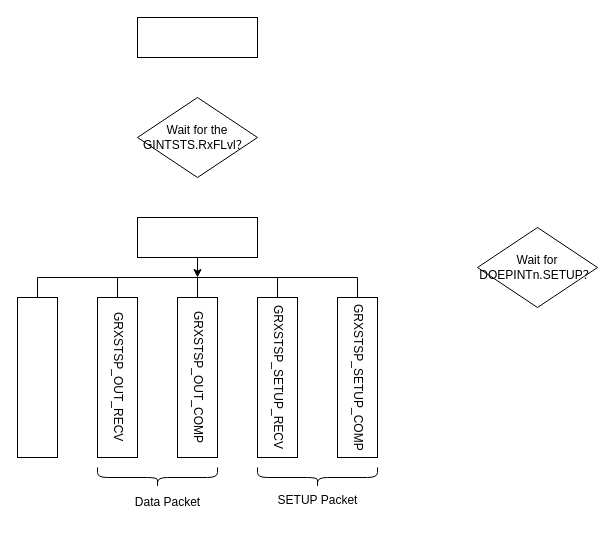
This 615x535 diagram has some shape labels left out. Each missing label, with the centre of its shape:
"DOEPTSIZn.SUPCnt = 3" goes at (x=197, y=37).
"GRXSTS_POP" goes at (x=197, y=237).
"GRXSTSP_GOUT_NAK" goes at (x=37, y=377).
